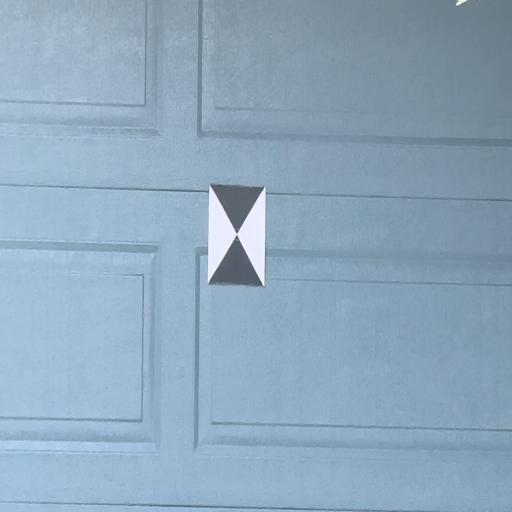target: (210, 184, 265, 286)
